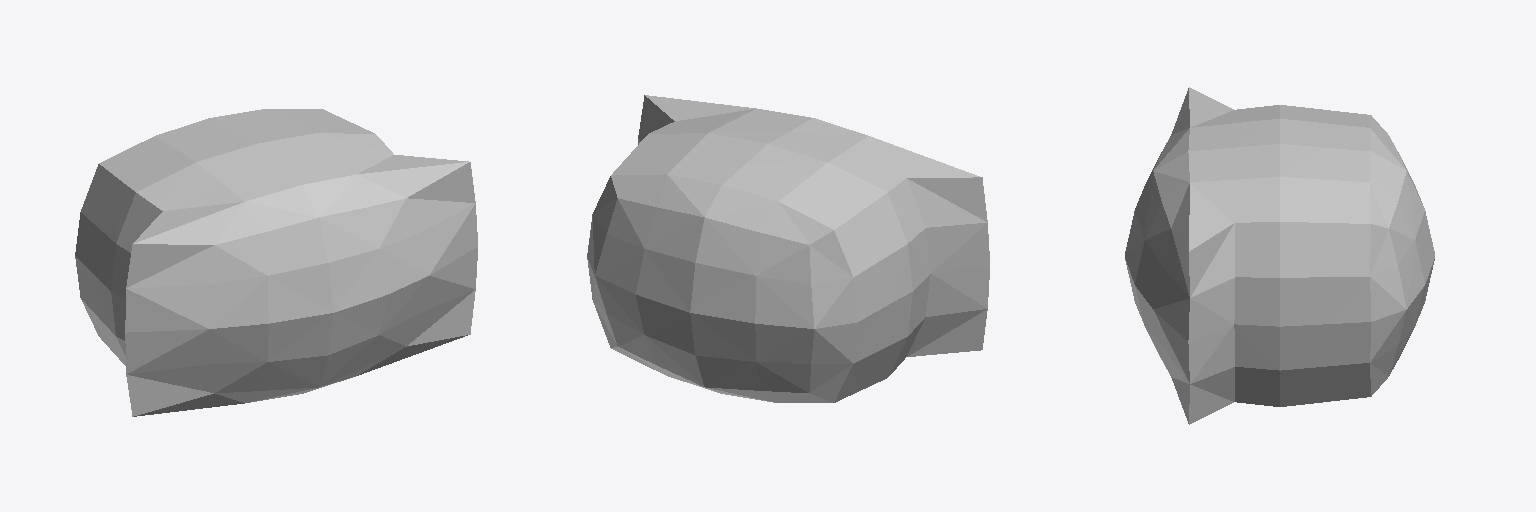
The model's file is squaremorph4.obj.
3 views of the same model, side by side, from view 1: azimuth 30°, elevation 25°; view 2: azimuth 150°, elevation 25°; view 3: azimuth 270°, elevation 25° (orthographic).
Parts seen in each view (by area): view 1: Cube1; view 2: Cube1; view 3: Cube1.
Boxes of the visible parts, x1,y1,x2,y2 form: Cube1: [75, 109, 477, 416]; Cube1: [587, 95, 989, 402]; Cube1: [1125, 87, 1434, 424].
Bounding box in the file's own units: 1.24 × 0.75 × 0.9432.